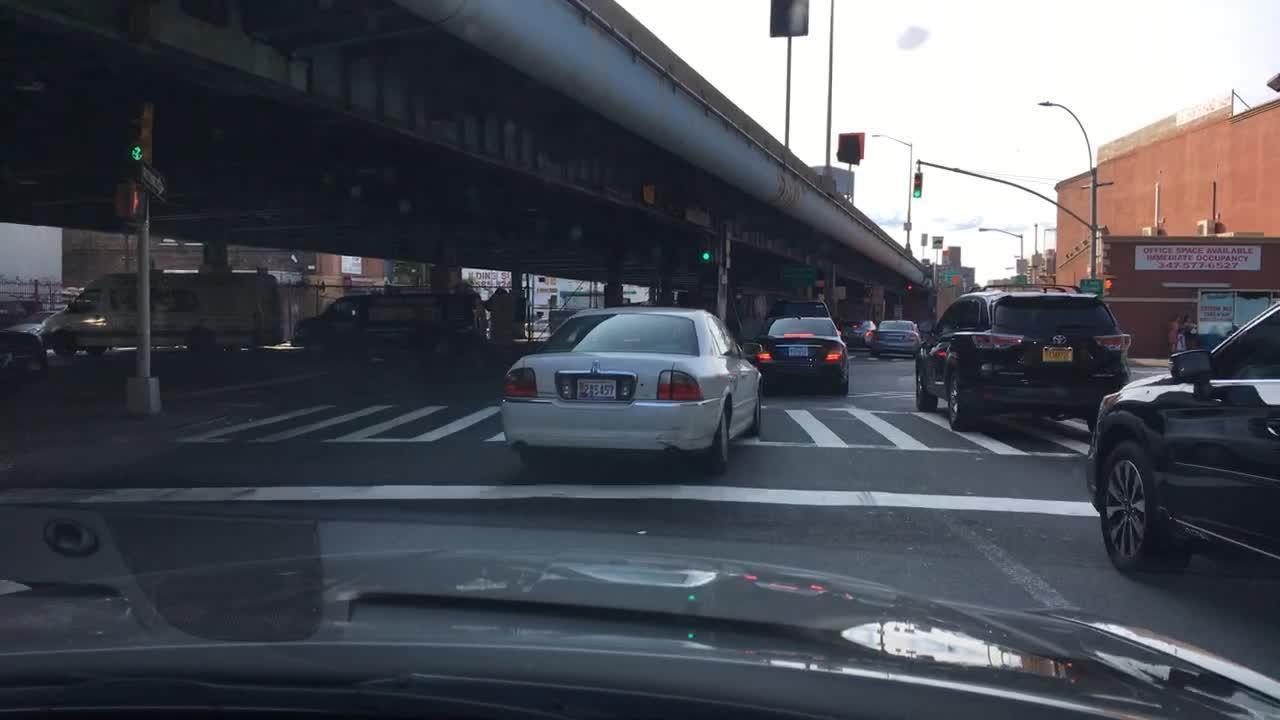Toyota: (1049, 332, 1069, 348)
lincoln: (587, 357, 602, 378)
